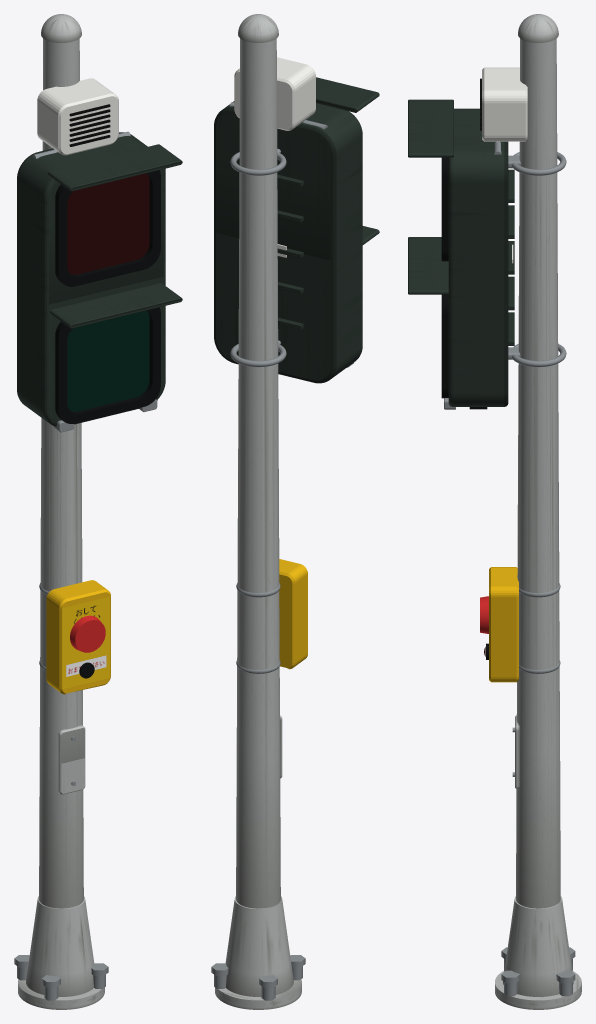
3 views of the same model, side by side, from view 1: azimuth 30°, elevation 25°; view 2: azimuth 150°, elevation 25°; view 3: azimuth 270°, elevation 25° (orthographic).
Visible parts, largest first — view 1: jp-ped-led, lamp_walk, lamp_red, opt_button_on, opt_sound_on; view 2: jp-ped-led, opt_button_on, opt_sound_on; view 3: jp-ped-led, opt_button_on, opt_sound_on.
Part boxes in pixels (<box>): jp-ped-led: <box>14,14,182,1009</box>; lamp_walk: <box>67,310,149,411</box>; lamp_red: <box>67,173,149,274</box>; opt_button_on: <box>39,580,110,694</box>; opt_sound_on: <box>37,78,118,155</box>; jp-ped-led: <box>211,14,379,1009</box>; opt_button_on: <box>236,559,307,673</box>; opt_sound_on: <box>234,57,315,130</box>; jp-ped-led: <box>408,14,581,1009</box>; opt_button_on: <box>480,567,560,682</box>; opt_sound_on: <box>480,67,527,141</box>.
Size of the model in its own units: 0.4 by 3.06 by 0.4935.
12 materials, 3 textured.
